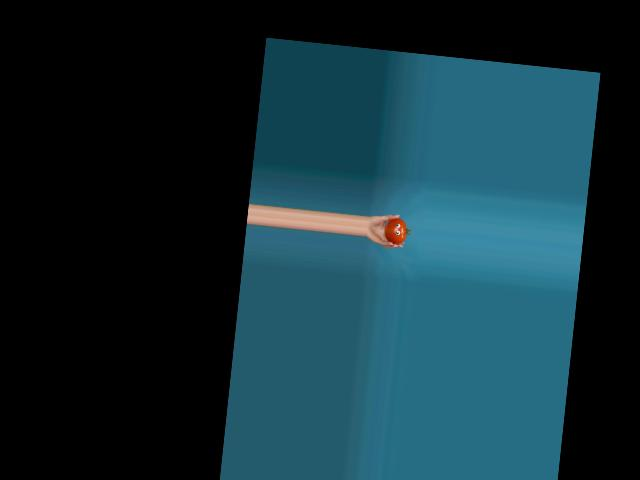tomato: (382, 216, 408, 245)
